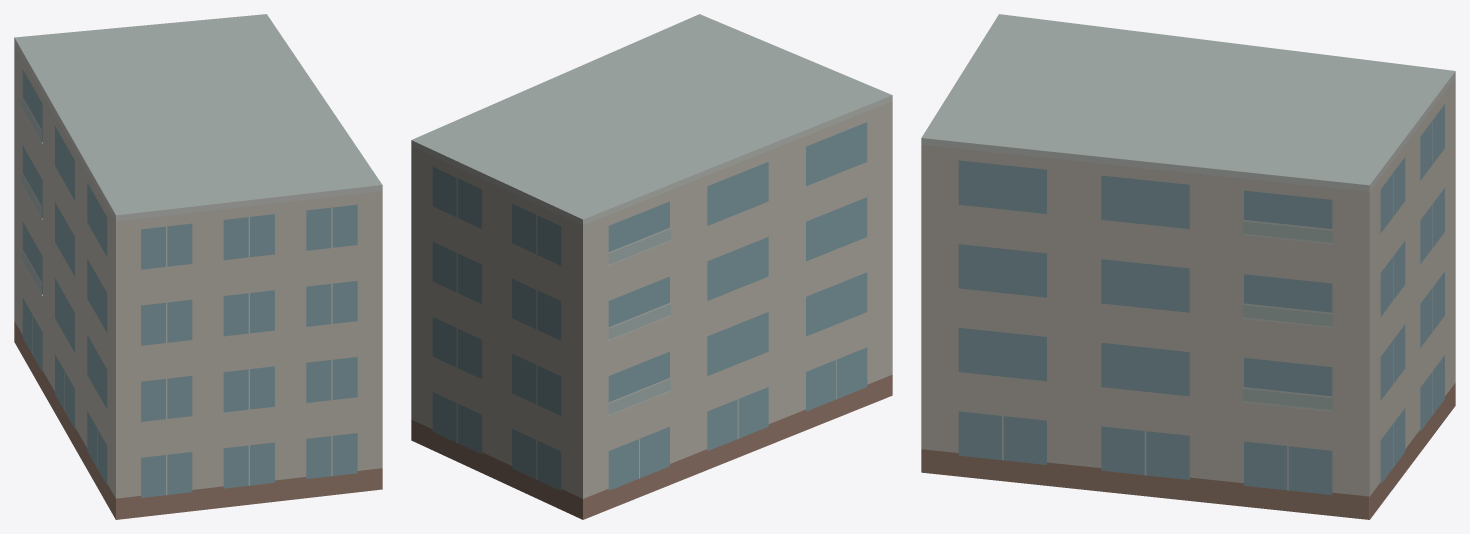
Rendered from survey-upis-32660198.glb.
3 renders of one model, left to right at view 1: azimuth 30°, elevation 25°; view 2: azimuth 150°, elevation 25°; view 3: azimuth 270°, elevation 25°, orthographic. The views are drawn at different scales.
Parts seen in each view (by area): view 1: survey-upis-32660198.tmp; view 2: survey-upis-32660198.tmp; view 3: survey-upis-32660198.tmp.
Boxes of the visible parts, x1=… form: survey-upis-32660198.tmp: x1=14, y1=14, x2=382, y2=519; survey-upis-32660198.tmp: x1=411, y1=14, x2=892, y2=519; survey-upis-32660198.tmp: x1=921, y1=14, x2=1455, y2=519.
Size of the model in its own units: 13.41 by 12.2 by 17.67.
